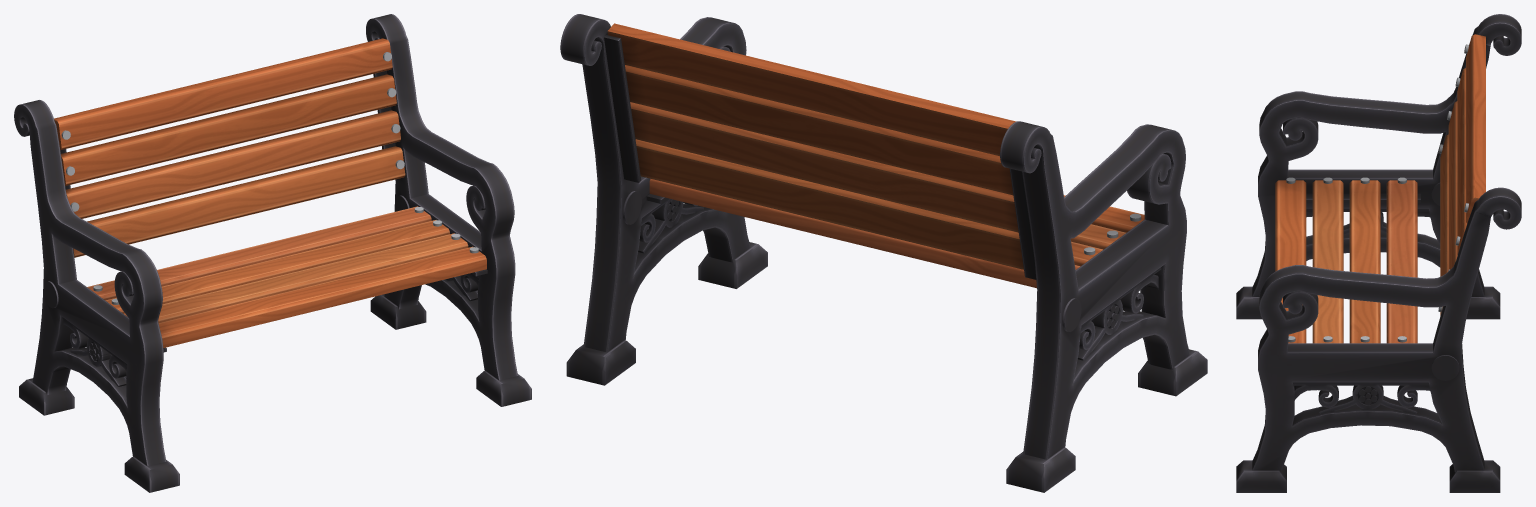
Rendered from houdini_park_bench_prop.glb.
3 views of the same model, side by side, from view 1: azimuth 30°, elevation 25°; view 2: azimuth 150°, elevation 25°; view 3: azimuth 270°, elevation 25° (orthographic). The views are drawn at different scales.
Parts seen in each view (by area): view 1: LOD0; view 2: LOD0; view 3: LOD0.
Part boxes in pixels (<box>): LOD0: <box>14,14,531,492</box>; LOD0: <box>560,14,1207,492</box>; LOD0: <box>1236,14,1521,492</box>.
Size of what is drawn, in the model's own units: 1.44 by 1.05 by 0.9235.
3 materials, 3 textured.
